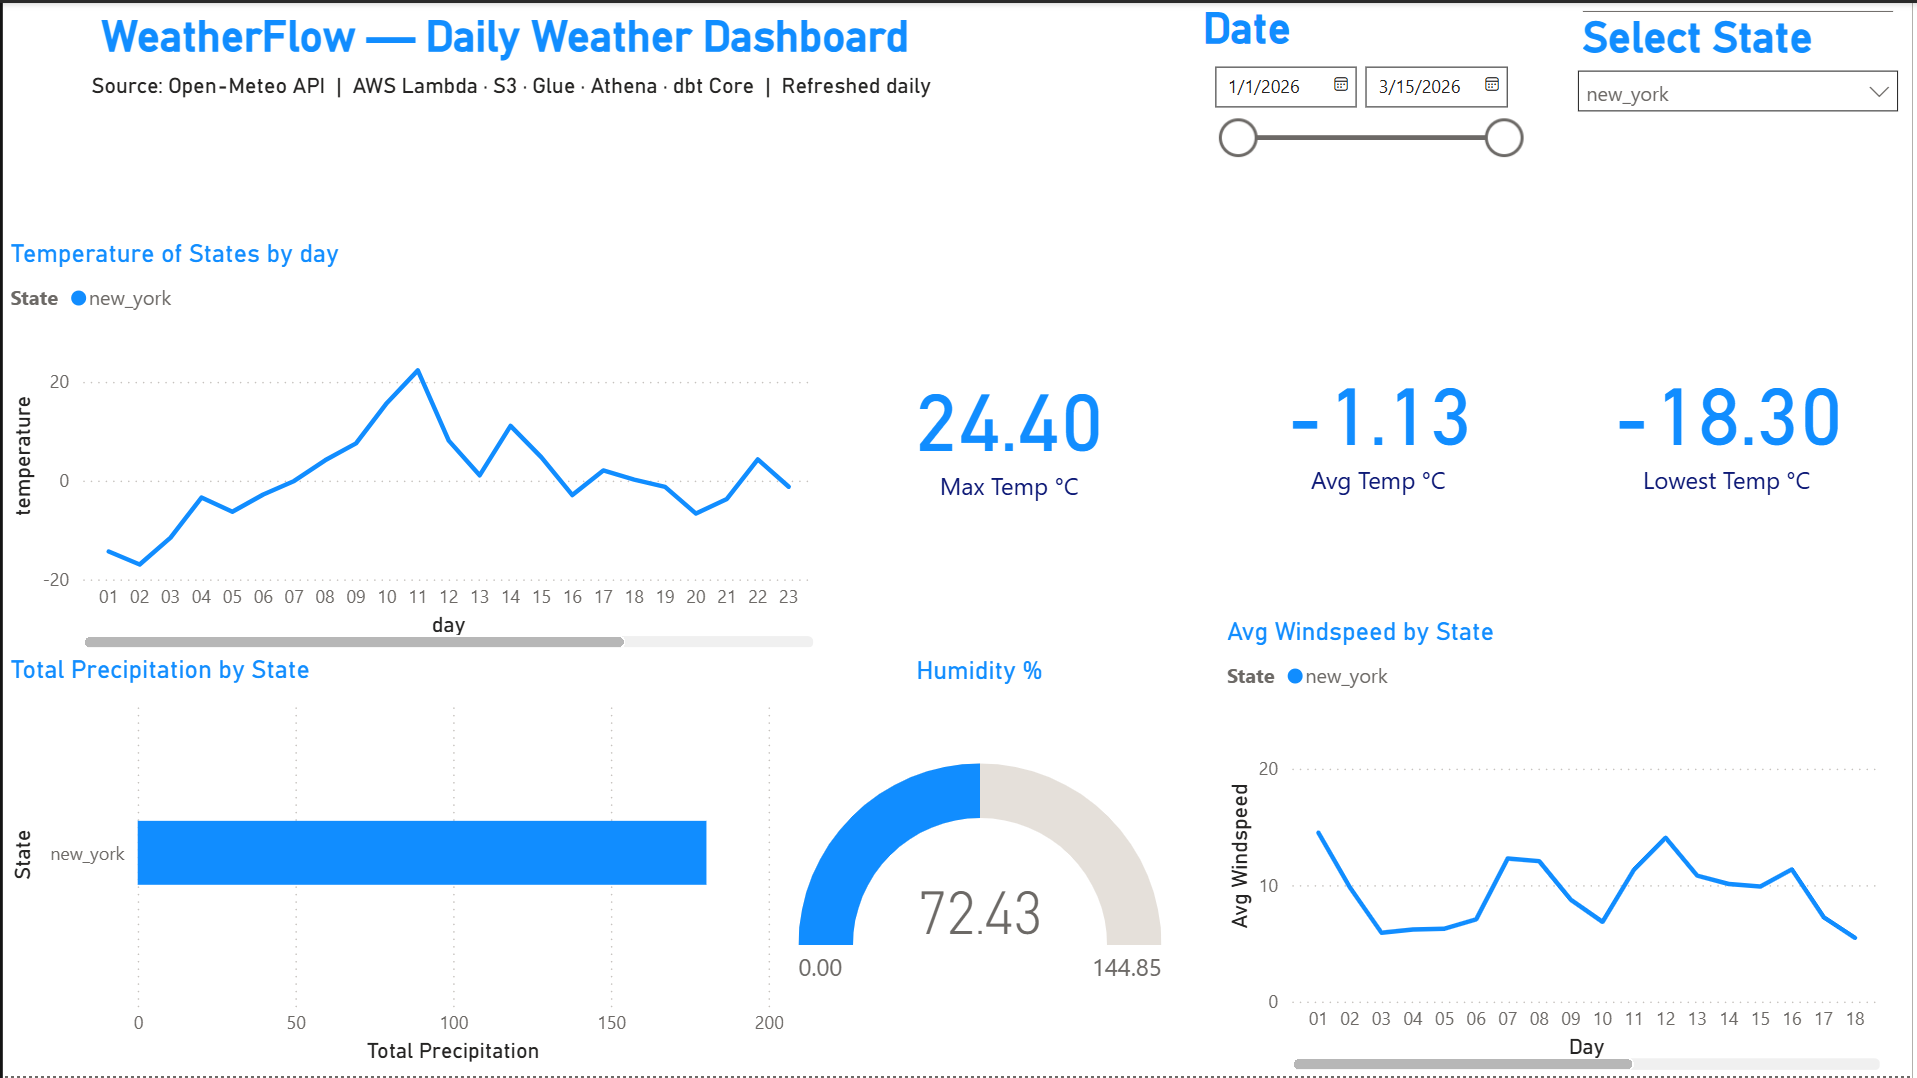

Layout of this report page (visuals, bound fields, positions):
{"tool":"powerbi","page":{"name":"Page 1","canvas":[1280,720],"ordinal":0},"visuals":[{"type":"lineChart","title":"Temperature of States by day","fields":{"Category":["mart_daily_weather.day"],"Y":["Sum(mart_daily_weather.avg_temp_c)"],"Series":["mart_daily_weather.city"]},"box":[0,157.6,548.1,279.3],"z":0},{"type":"slicer","fields":{"Values":["mart_daily_weather.city"]},"box":[1045.6,8.9,234.4,108.9],"z":1000},{"type":"card","fields":{"Values":["Avg(mart_daily_weather.avg_temp_c)"]},"box":[815.6,157.8,212.2,245.6],"z":2000},{"type":"gauge","fields":{"Y":["Avg(mart_daily_weather.avg_humidity_pct)"]},"box":[527.9,437.2,253.5,277.9],"z":3000},{"type":"clusteredBarChart","title":"Total Precipitation by City by State","fields":{"Y":["Sum(mart_daily_weather.total_precipitation_mm)"],"Category":["mart_daily_weather.city"]},"box":[0,437.2,510.5,277.9],"z":4000},{"type":"lineChart","title":"Avg Windspeed by State","fields":{"Category":["mart_daily_weather.day"],"Y":["Avg(mart_daily_weather.avg_wind_speed_kmh)"],"Series":["mart_daily_weather.city"]},"box":[815.6,411.1,447.8,308.9],"z":5000},{"type":"card","fields":{"Values":["Max(mart_daily_weather.max_temp_c)"]},"box":[547.7,158.1,252.3,253.5],"z":6000},{"type":"card","fields":{"Values":["Min(mart_daily_weather.min_temp_c)"]},"box":[1045.6,157.8,218.9,245.6],"z":7000},{"type":"actionButton","box":[0,0,100,40],"z":8000},{"type":"slicer","title":"Date","fields":{"Values":["mart_daily_weather.Month.1"]},"box":[800,0,227.9,109.3],"z":9000},{"type":"textbox","box":[0,0,673.3,63.3],"z":10000},{"type":"textbox","box":[50,40,581.1,46.7],"z":11000}]}

Visuals, with their boxes in screenshot pixels (x1, y1, x2, y2), scaled from the page's 1280x720 canvas onto the 1917x1078 screenshot:
"Temperature of States by day" lineChart: left=0, top=236, right=821, bottom=654
slicer - mart_daily_weather.city: left=1566, top=13, right=1916, bottom=176
card - Avg(mart_daily_weather.avg_temp_c): left=1221, top=236, right=1539, bottom=604
gauge - Avg(mart_daily_weather.avg_humidity_pct): left=791, top=655, right=1170, bottom=1071
"Total Precipitation by City by State" clusteredBarChart: left=0, top=655, right=765, bottom=1071
"Avg Windspeed by State" lineChart: left=1221, top=616, right=1892, bottom=1077
card - Max(mart_daily_weather.max_temp_c): left=820, top=237, right=1198, bottom=616
card - Min(mart_daily_weather.min_temp_c): left=1566, top=236, right=1894, bottom=604
actionButton: left=0, top=0, right=150, bottom=60
"Date" slicer: left=1198, top=0, right=1539, bottom=164
textbox: left=0, top=0, right=1008, bottom=95
textbox: left=75, top=60, right=945, bottom=130
